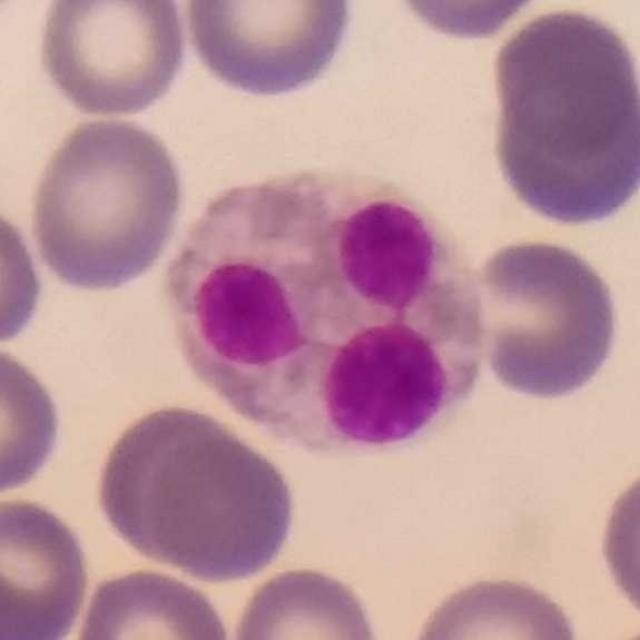eosino: (163, 164, 488, 456)
